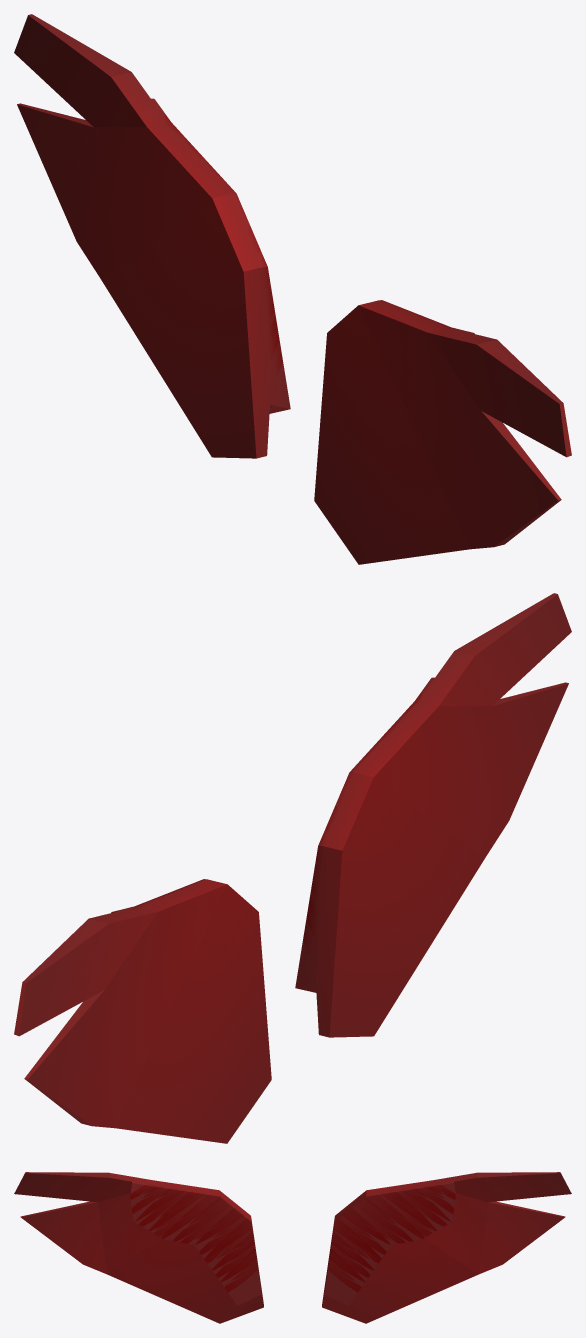
Rendered from wing2.fbx.
The picture shows the model from 3 angles, top to bottom: view 1: azimuth 30°, elevation 25°; view 2: azimuth 150°, elevation 25°; view 3: azimuth 270°, elevation 25°; orthographic projection. The views are drawn at different scales.
Parts seen in each view (by area): view 1: Cube, Cube.001; view 2: Cube.001, Cube; view 3: Cube, Cube.001.
Boxes of the visible parts, <box> form: Cube: <box>14,14,290,458</box>; Cube.001: <box>314,300,571,564</box>; Cube.001: <box>295,593,571,1037</box>; Cube: <box>14,879,271,1143</box>; Cube: <box>322,1172,571,1323</box>; Cube.001: <box>14,1172,263,1323</box>.
Bounding box in the file's own units: 36.19 × 273 × 913.
Materials: 1 (1 with a texture image).
